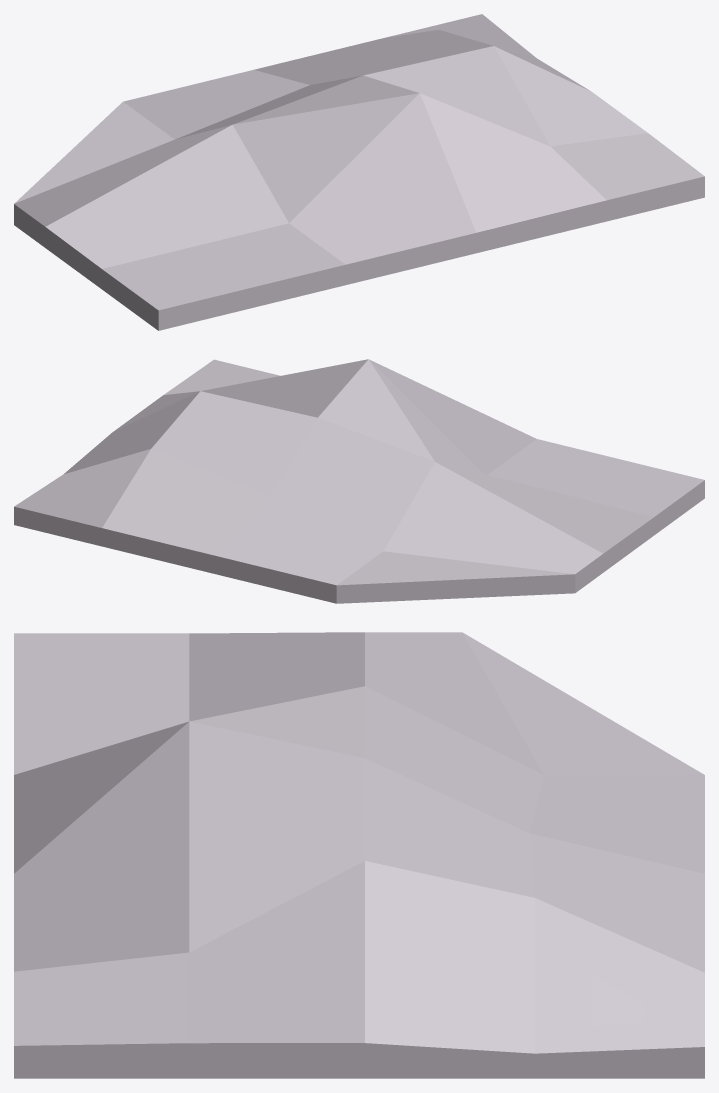
File: snow_05.fbx
The picture shows the model from 3 angles, top to bottom: view 1: azimuth 30°, elevation 25°; view 2: azimuth 150°, elevation 25°; view 3: azimuth 270°, elevation 25°; orthographic projection. The views are drawn at different scales.
Parts seen in each view (by area): view 1: Plane.019; view 2: Plane.019; view 3: Plane.019.
Part boxes in pixels (<box>): Plane.019: <box>14,14,704,330</box>; Plane.019: <box>14,359,704,603</box>; Plane.019: <box>14,632,704,1078</box>.
Bounding box in the file's own units: 837 × 174 × 591.
